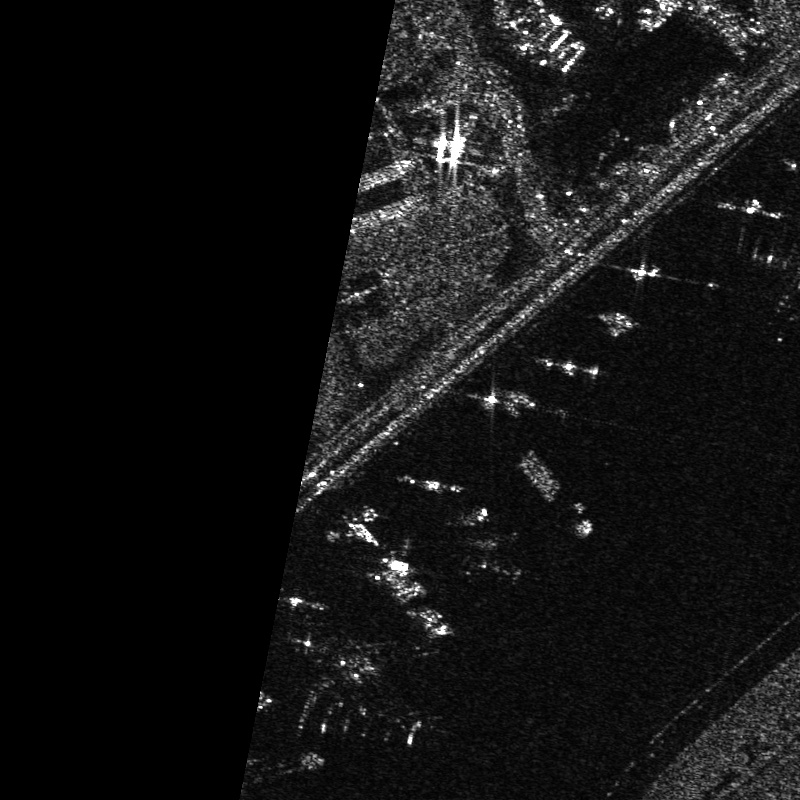Boeing787: (295, 633, 433, 747)
other: (457, 509, 531, 587)
